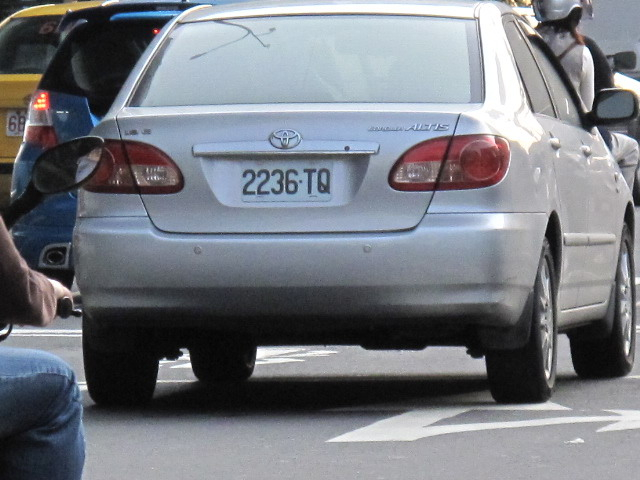plate: (237, 158, 334, 203)
